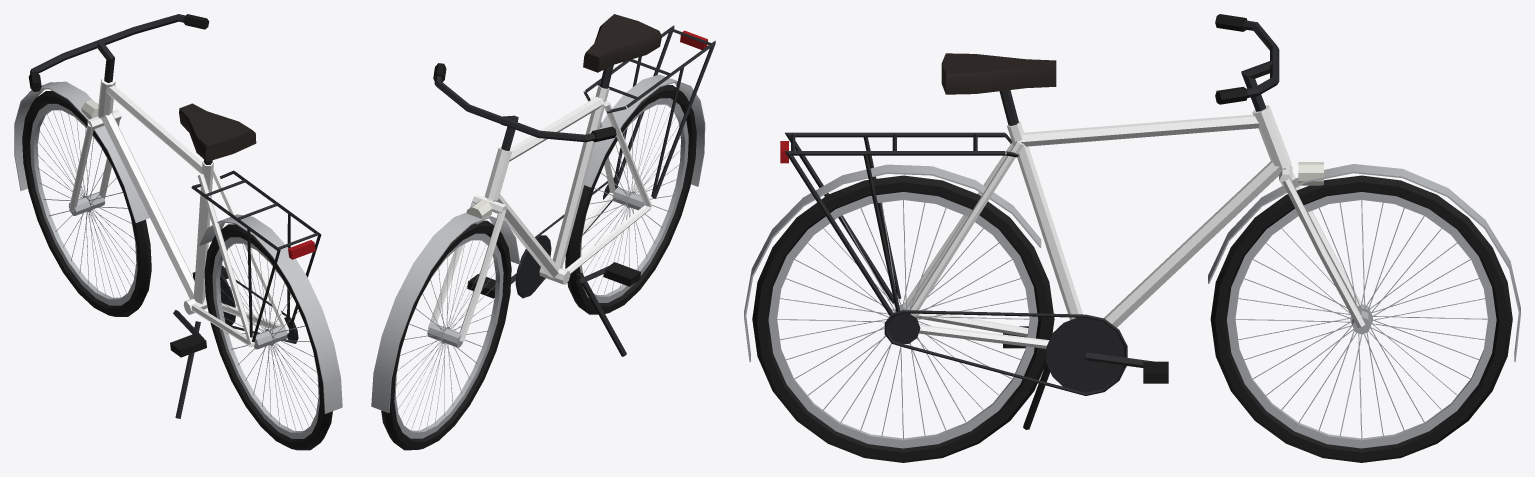
Rendered from bicycle.glb.
3 views of the same model, side by side, from view 1: azimuth 30°, elevation 25°; view 2: azimuth 150°, elevation 25°; view 3: azimuth 270°, elevation 25° (orthographic). The views are drawn at different scales.
Visible parts, largest first — view 1: bicycle; view 2: bicycle; view 3: bicycle.
Part boxes in pixels (x1,y1,x2,y2): bicycle: [14, 14, 342, 450]; bicycle: [371, 14, 715, 450]; bicycle: [744, 14, 1520, 462].
Bounding box in the file's own units: 0.6119 × 1.04 × 1.83.
Materials: 10 (1 with a texture image).
